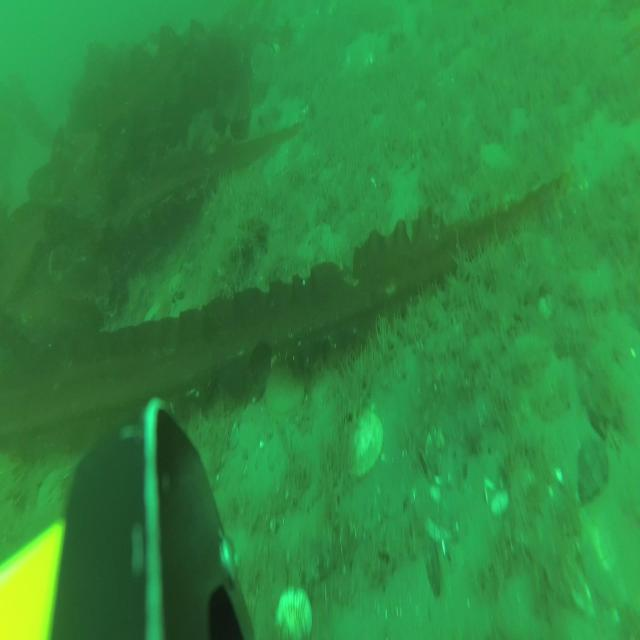scallop: (578, 502, 640, 609), (346, 404, 385, 475), (267, 360, 308, 420), (274, 586, 312, 639)
